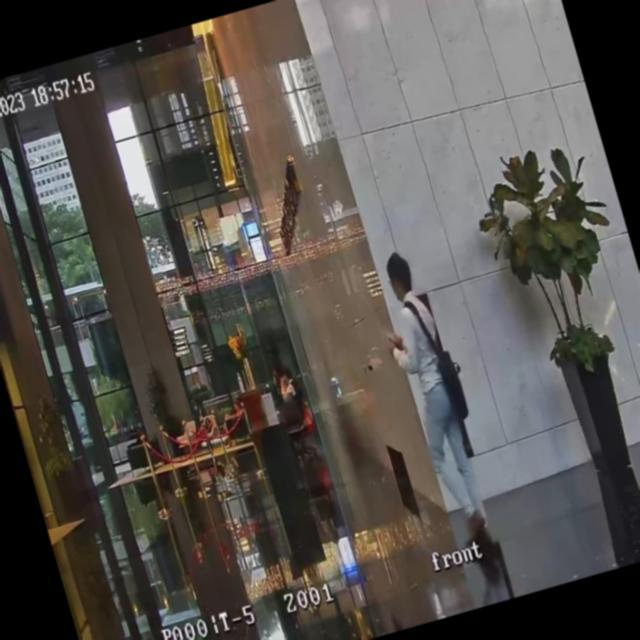person: (365, 246, 495, 538), (212, 398, 250, 448), (276, 366, 302, 409)
